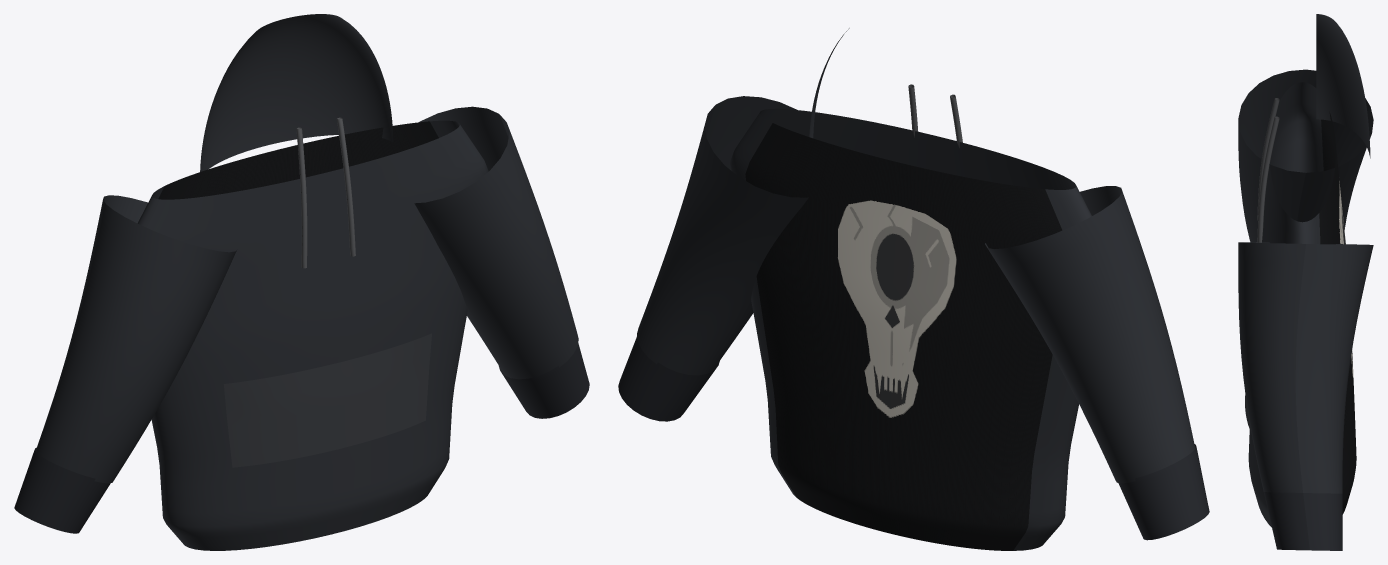
Rendered from hoodie-skull-v2.glb.
3 renders of one model, left to right at view 1: azimuth 30°, elevation 25°; view 2: azimuth 150°, elevation 25°; view 3: azimuth 270°, elevation 25°, orthographic. The views are drawn at different scales.
Parts seen in each view (by area): view 1: front-pullover-torso-plain, left-sleeve, right-sleeve, pullover-hood-shell, front-kangaroo-pocket-plain, back-pullover-torso-print-panel, left-rib-cuff, right-rib-cuff, hood-drawcord-left, hood-drawcord-right; view 2: back-pullover-torso-print-panel, left-sleeve, right-sleeve, front-pullover-torso-plain, left-rib-cuff, right-rib-cuff; view 3: right-sleeve, left-sleeve, front-pullover-torso-plain, pullover-hood-shell, right-rib-cuff, back-pullover-torso-print-panel, hood-drawcord-right, hood-drawcord-left.
Part boxes in pixels (x1,y1,x2,y2): front-pullover-torso-plain: (137,120,488,550); left-sleeve: (35,195,236,483); right-sleeve: (414,106,578,379); pullover-hood-shell: (200,14,393,171); front-kangaroo-pocket-plain: (223,333,431,467); back-pullover-torso-print-panel: (158,121,438,199); left-rib-cuff: (14,448,110,533); right-rib-cuff: (499,343,589,418); hood-drawcord-left: (296,127,307,268); hood-drawcord-right: (337,117,355,256); back-pullover-torso-print-panel: (745,123,1062,550); left-sleeve: (985,186,1195,483); right-sleeve: (637,96,808,375); front-pullover-torso-plain: (729,108,1091,550); left-rib-cuff: (1118,444,1209,540); right-rib-cuff: (618,337,719,421); right-sleeve: (1238,242,1373,493); left-sleeve: (1238,69,1373,242); front-pullover-torso-plain: (1248,82,1323,527); pullover-hood-shell: (1316,14,1370,158); right-rib-cuff: (1264,492,1342,550); back-pullover-torso-print-panel: (1319,111,1356,514); hood-drawcord-right: (1257,116,1279,242); hood-drawcord-left: (1257,98,1279,220).
Bounding box in the file's own units: 2.66 × 2.17 × 0.5883.
Materials: 6 (1 with a texture image).
